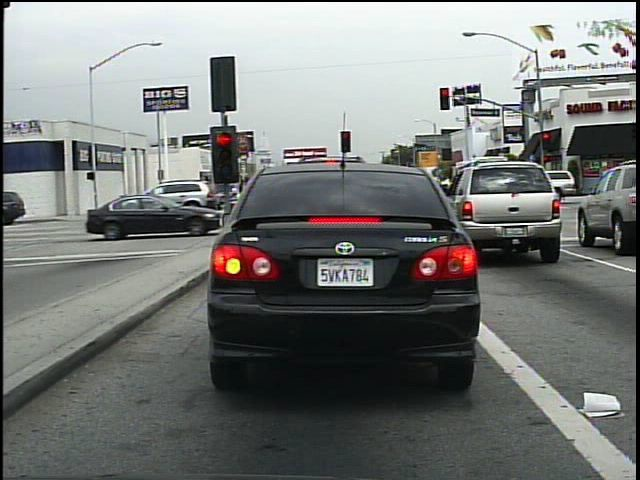person: (196, 177, 219, 216)
